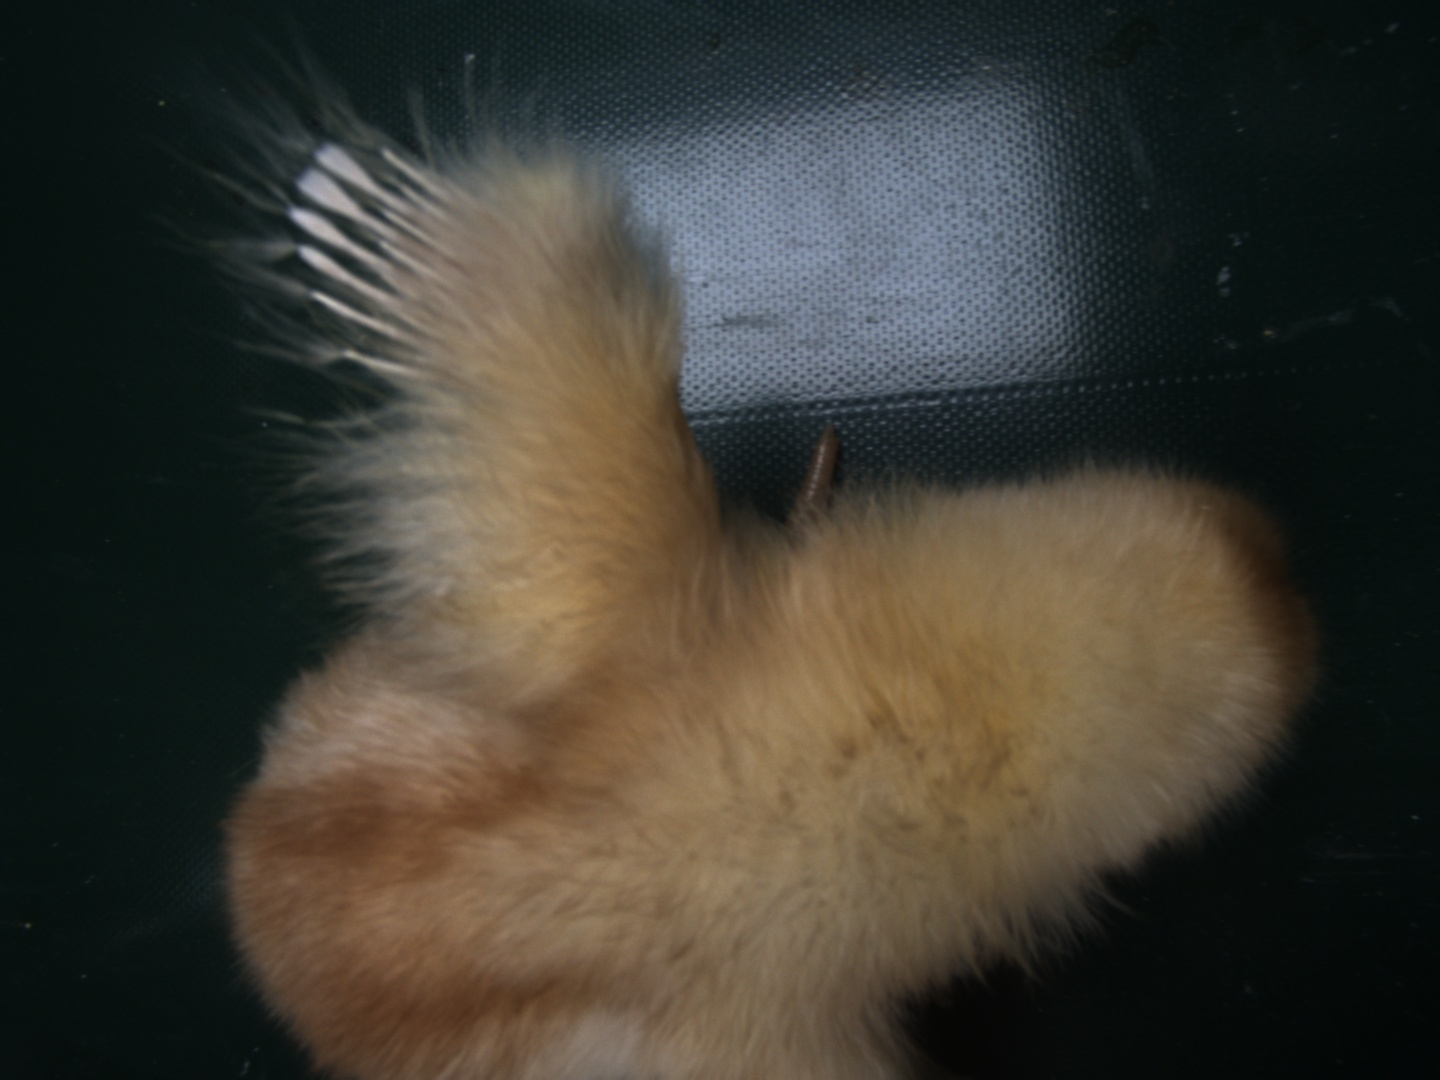female: (283, 136, 471, 397)
